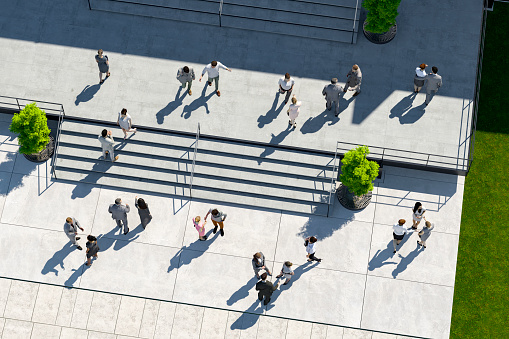person: (199, 60, 232, 97), (107, 197, 132, 235), (322, 77, 344, 119), (391, 219, 415, 254), (423, 67, 443, 106), (97, 129, 119, 163), (64, 217, 86, 251), (255, 273, 277, 306), (204, 207, 229, 236), (342, 63, 363, 96), (134, 194, 153, 230), (94, 48, 112, 85), (175, 65, 196, 96), (119, 107, 138, 141), (275, 72, 293, 106), (304, 235, 322, 265), (416, 221, 435, 249), (84, 233, 99, 268), (288, 95, 303, 129), (412, 62, 427, 96), (410, 201, 426, 232), (275, 261, 294, 287), (192, 216, 208, 243)
